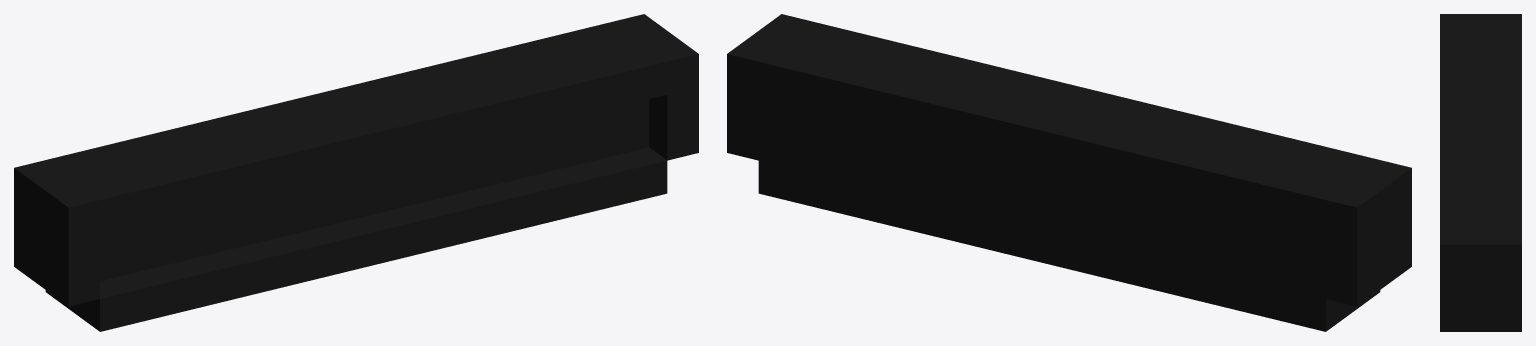
The model's file is LongAngledLight0.obj.
The picture shows the model from 3 angles, left to right: view 1: azimuth 30°, elevation 25°; view 2: azimuth 150°, elevation 25°; view 3: azimuth 270°, elevation 25°; orthographic projection. The views are drawn at different scales.
Size of the model in its own units: 2 by 0.4 by 0.3.
1 material, 1 textured.
